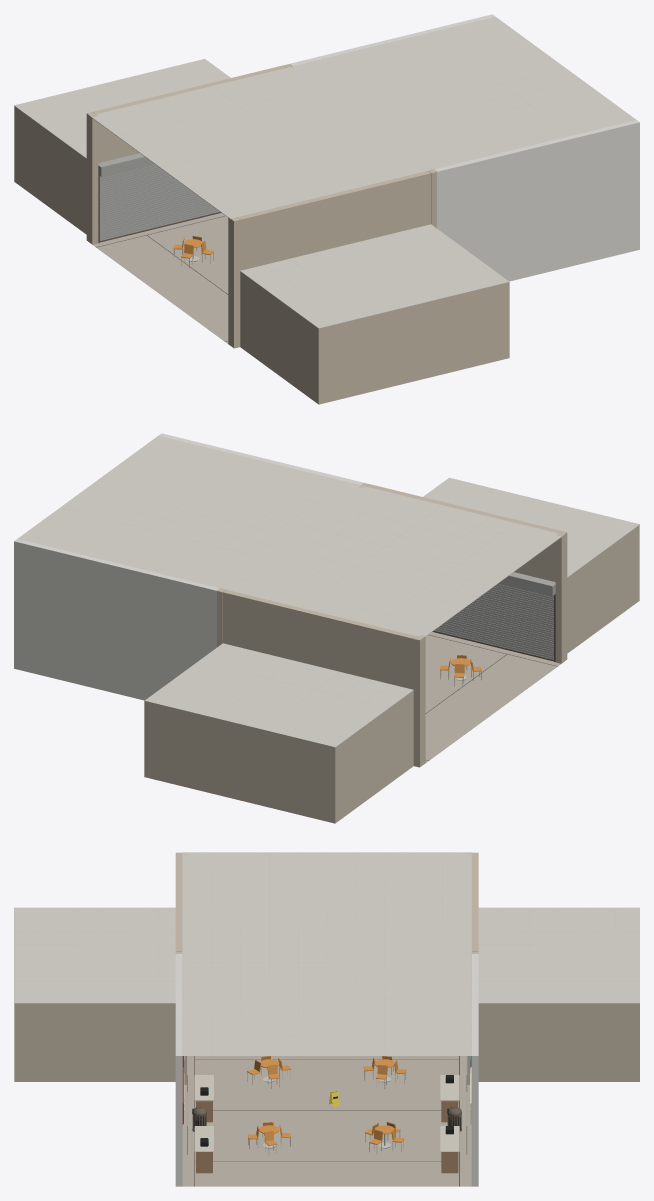
File: food_court.glb
3 views of the same model, one above another, from view 1: azimuth 30°, elevation 25°; view 2: azimuth 150°, elevation 25°; view 3: azimuth 270°, elevation 25° (orthographic). The views are drawn at different scales.
Visible parts, largest first — view 1: food_court; view 2: food_court; view 3: food_court.
Boxes of the visible parts, x1,y1,x2,y2 form: food_court: (14, 14, 639, 404); food_court: (14, 433, 639, 823); food_court: (14, 852, 639, 1186).
Size of what is drawn, in the model's own units: 20.01 by 6 by 26.01.
